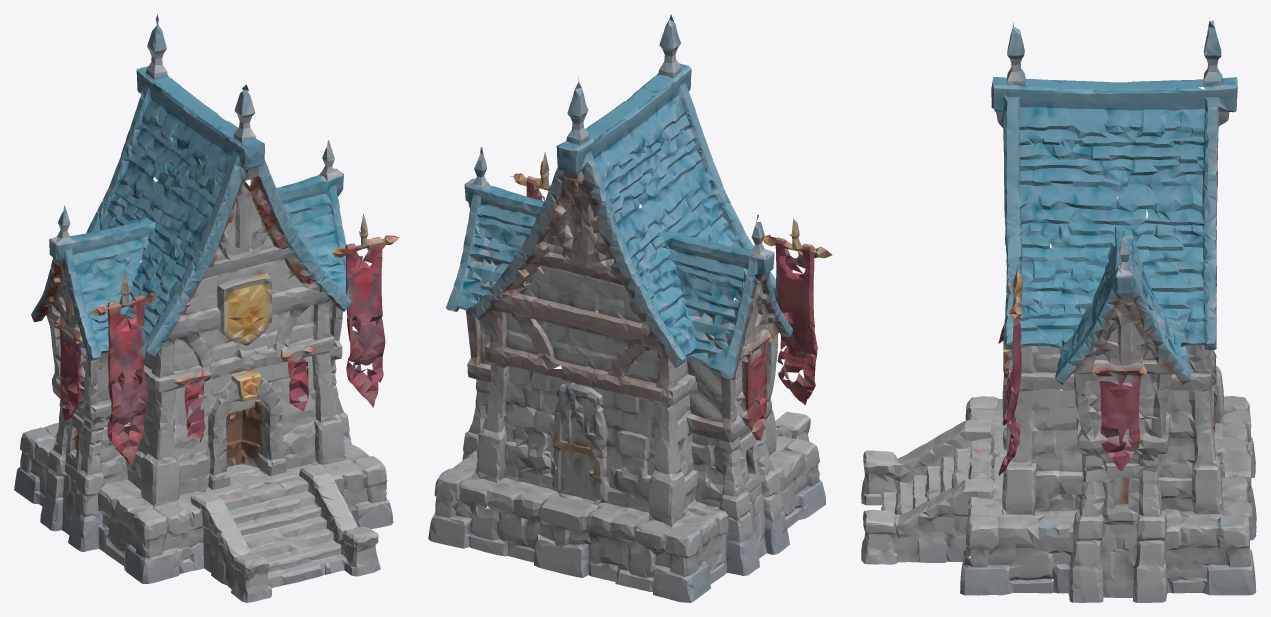
Rendered from building_alliance_hall_lod1.glb.
3 renders of one model, left to right at view 1: azimuth 30°, elevation 25°; view 2: azimuth 150°, elevation 25°; view 3: azimuth 270°, elevation 25°, orthographic. The views are drawn at different scales.
Parts seen in each view (by area): view 1: world; view 2: world; view 3: world.
Part boxes in pixels (bbox=[...]): world: bbox=[14, 14, 399, 602]; world: bbox=[428, 14, 832, 602]; world: bbox=[861, 20, 1256, 602].
Size of the model in its own units: 1.34 by 1.9 by 1.33.
